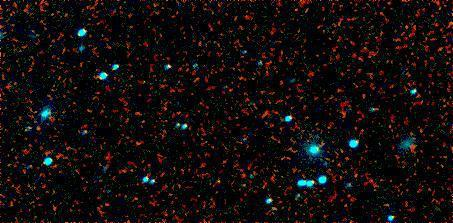star: (26, 109, 56, 139)
